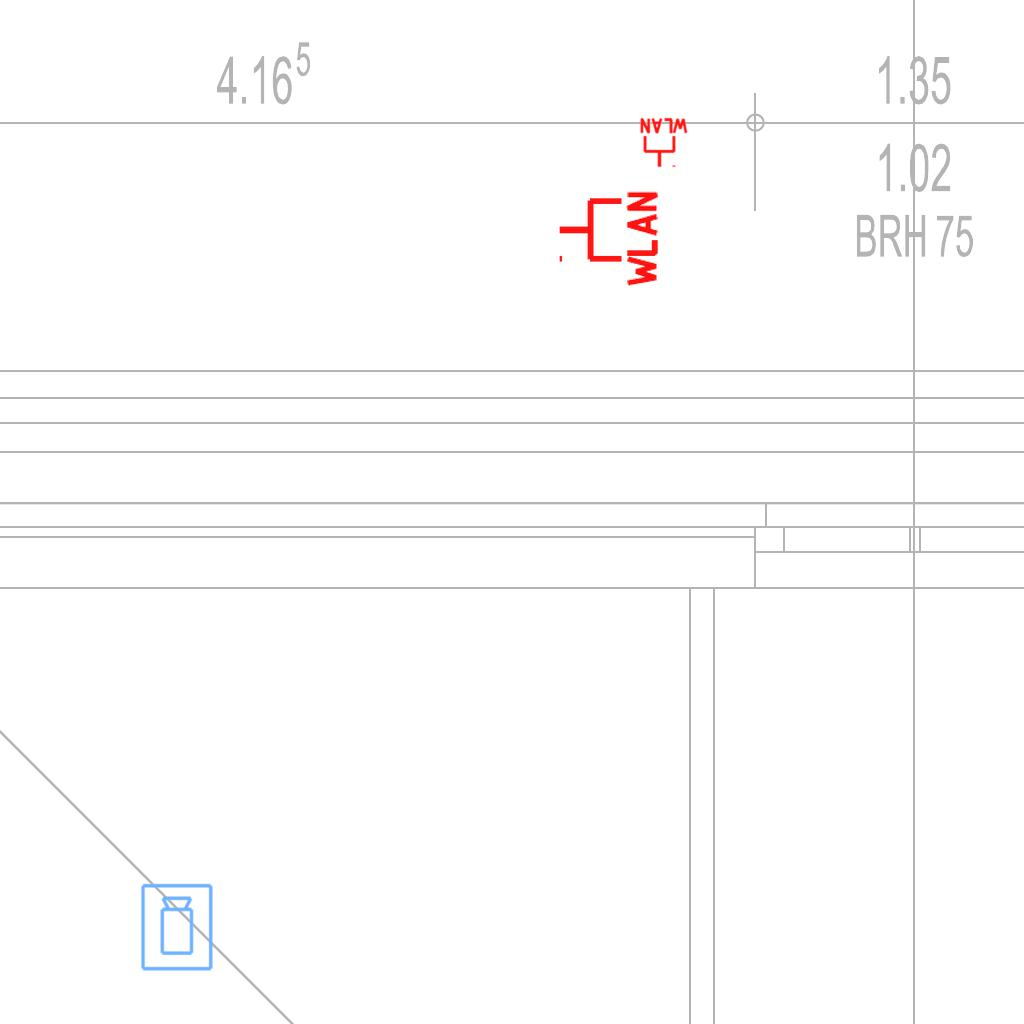KFO_Kamera_mit_Festobjektiv: (139, 882, 216, 973)
WLAN: (555, 187, 660, 291), (638, 117, 690, 169)
